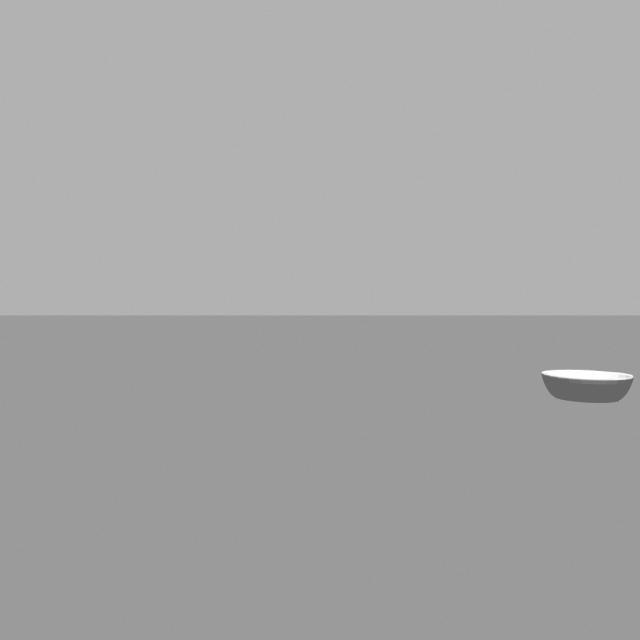bowl: (536, 357, 637, 418)
